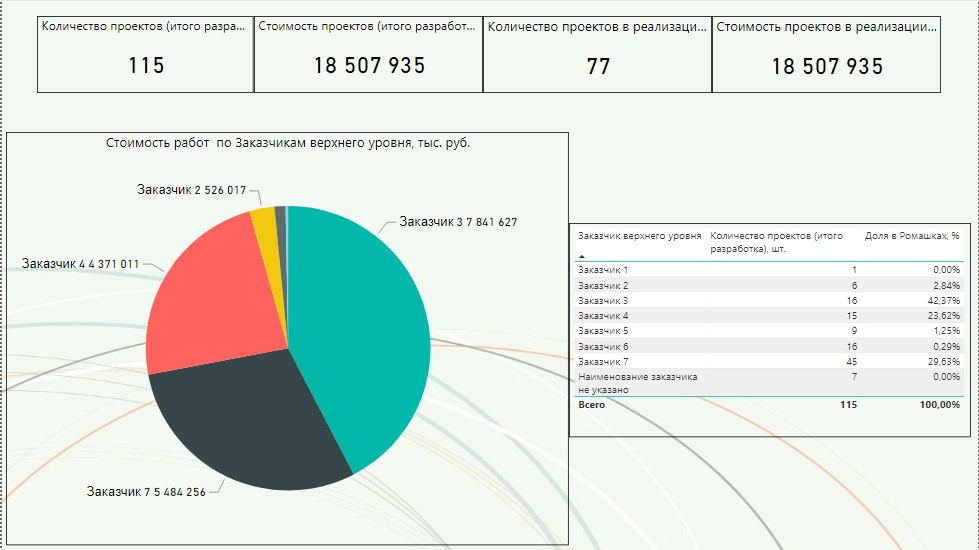

The dashboard page shown, as its layout file describes it:
{"tool":"powerbi","page":{"name":"Реализация","canvas":[1280,720],"ordinal":0},"visuals":[{"type":"pieChart","title":"Стоимость работ  по Заказчикам верхнего уровня, тыс. руб.","fields":{"Y":["Портфель (ИТОГ).Стоимость проектов (итого инжиниринг), тыс. руб."],"Series":["Портфель (ИТОГ).Заказчик верхнего уровня (ст.)"]},"box":[5.5,172,737.7,542.3],"z":0},{"type":"card","title":"Количество проектов (итого разработка), шт.","fields":{"Values":["Портфель (ИТОГ).Количество проектов (итого инжиниринг), шт."]},"box":[46.2,20.2,284.2,101],"z":1000},{"type":"card","title":"Стоимость проектов (итого разработка), тыс. руб.","fields":{"Values":["Портфель (ИТОГ).Стоимость проектов (итого инжиниринг), тыс. руб."]},"box":[330.4,20.2,300.1,101],"z":2000},{"type":"card","title":"Количество проектов в реализации, шт.","fields":{"Values":["Портфель (ИТОГ).Количество проектов в реализации, шт."]},"box":[630.5,20.2,300.1,101],"z":3000},{"type":"card","title":"Стоимость проектов в реализации, тыс. руб.","fields":{"Values":["Портфель (ИТОГ).Стоимость проектов в реализации, тыс. руб."]},"box":[930.7,20.2,300.1,101],"z":4000},{"type":"tableEx","fields":{"Values":["Портфель (ИТОГ).Столбец","Портфель (ИТОГ).Количество проектов (итого инжиниринг), шт.","Портфель (ИТОГ).Доля в НИПИГАЗ, %"]},"box":[743.1,291.5,526.7,281.4],"z":5000}]}

Visuals, with their boxes in screenshot pixels (x1, y1, x2, y2), scaled from the page's 1280x720 canvas onto the 979x550 screenshot:
"Стоимость работ  по Заказчикам верхнего уровня, тыс. руб." pieChart: 4, 131, 568, 546
"Количество проектов (итого разработка), шт." card: 35, 15, 253, 93
"Стоимость проектов (итого разработка), тыс. руб." card: 253, 15, 482, 93
"Количество проектов в реализации, шт." card: 482, 15, 712, 93
"Стоимость проектов в реализации, тыс. руб." card: 712, 15, 941, 93
tableEx - Портфель (ИТОГ).Столбец x Портфель (ИТОГ).Количество проектов (итого инжиниринг), шт.: 568, 223, 971, 438
